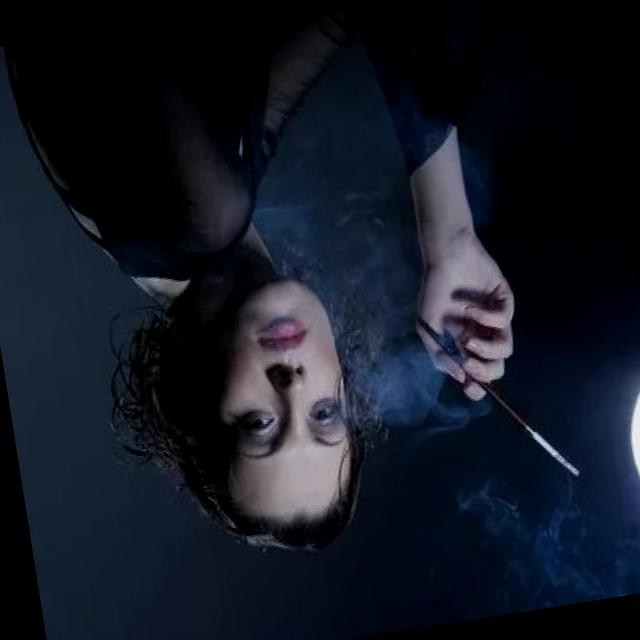cigarette: (412, 291, 586, 503)
